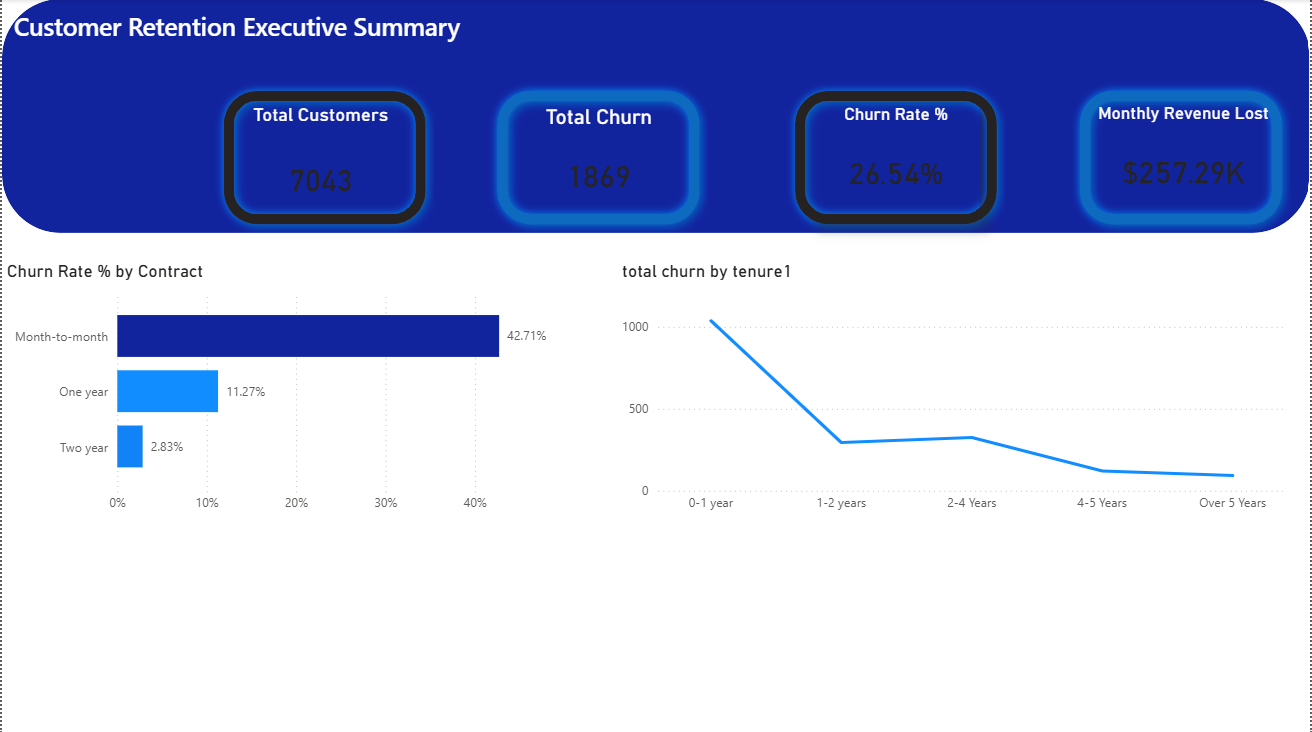

The dashboard page shown, as its layout file describes it:
{"tool":"powerbi","page":{"name":"Page 1","canvas":[1280,720],"ordinal":0},"visuals":[{"type":"shape","box":[0,0,1280,228.9],"z":0},{"type":"textbox","box":[0,5.9,1280,223],"z":1000},{"type":"shape","box":[208.1,80.3,215.6,148.7],"z":1001},{"type":"shape","box":[475.7,80.3,215.6,148.7],"z":1002},{"type":"shape","box":[767.1,80.3,215.6,148.7],"z":1003},{"type":"shape","box":[1045.1,80.3,215.6,148.7],"z":1004},{"type":"card","title":"Churn Rate %","fields":{"Values":["WA_Fn-UseC_-Telco-Customer-Churn.Churn Rate %"]},"box":[793.9,102.6,162,114.5],"z":1005},{"type":"card","title":"Total Customers","fields":{"Values":["WA_Fn-UseC_-Telco-Customer-Churn.Total customeers"]},"box":[208.1,102.6,208.1,126.4],"z":1006},{"type":"card","title":"Total Churn","fields":{"Values":["WA_Fn-UseC_-Telco-Customer-Churn.total churn"]},"box":[511.4,102.6,145.7,116],"z":1007},{"type":"card","title":"Monthly Revenue Lost","fields":{"Values":["WA_Fn-UseC_-Telco-Customer-Churn.Revenue at Risk"]},"box":[1032.5,102,247.5,114.4],"z":1008},{"type":"clusteredBarChart","fields":{"Category":["WA_Fn-UseC_-Telco-Customer-Churn.Contract"],"Y":["WA_Fn-UseC_-Telco-Customer-Churn.Churn Rate %"]},"box":[0,255.7,551.5,255.7],"z":1009},{"type":"lineChart","fields":{"Category":["WA_Fn-UseC_-Telco-Customer-Churn.tenure1"],"Y":["WA_Fn-UseC_-Telco-Customer-Churn.total churn"]},"box":[602.1,255.7,658.6,255.7],"z":1010}]}

Visuals, with their boxes in screenshot pixels (x1, y1, x2, y2), scaled from the page's 1280x720 canvas onto the 1312x732 screenshot:
shape: 0/0/1311/233
textbox: 0/6/1311/233
shape: 213/82/434/233
shape: 488/82/709/233
shape: 786/82/1007/233
shape: 1071/82/1292/233
"Churn Rate %" card: 814/104/980/221
"Total Customers" card: 213/104/427/233
"Total Churn" card: 524/104/674/222
"Monthly Revenue Lost" card: 1058/104/1311/220
clusteredBarChart - WA_Fn-UseC_-Telco-Customer-Churn.Contract x WA_Fn-UseC_-Telco-Customer-Churn.Churn Rate %: 0/260/565/520
lineChart - WA_Fn-UseC_-Telco-Customer-Churn.tenure1 x WA_Fn-UseC_-Telco-Customer-Churn.total churn: 617/260/1292/520
